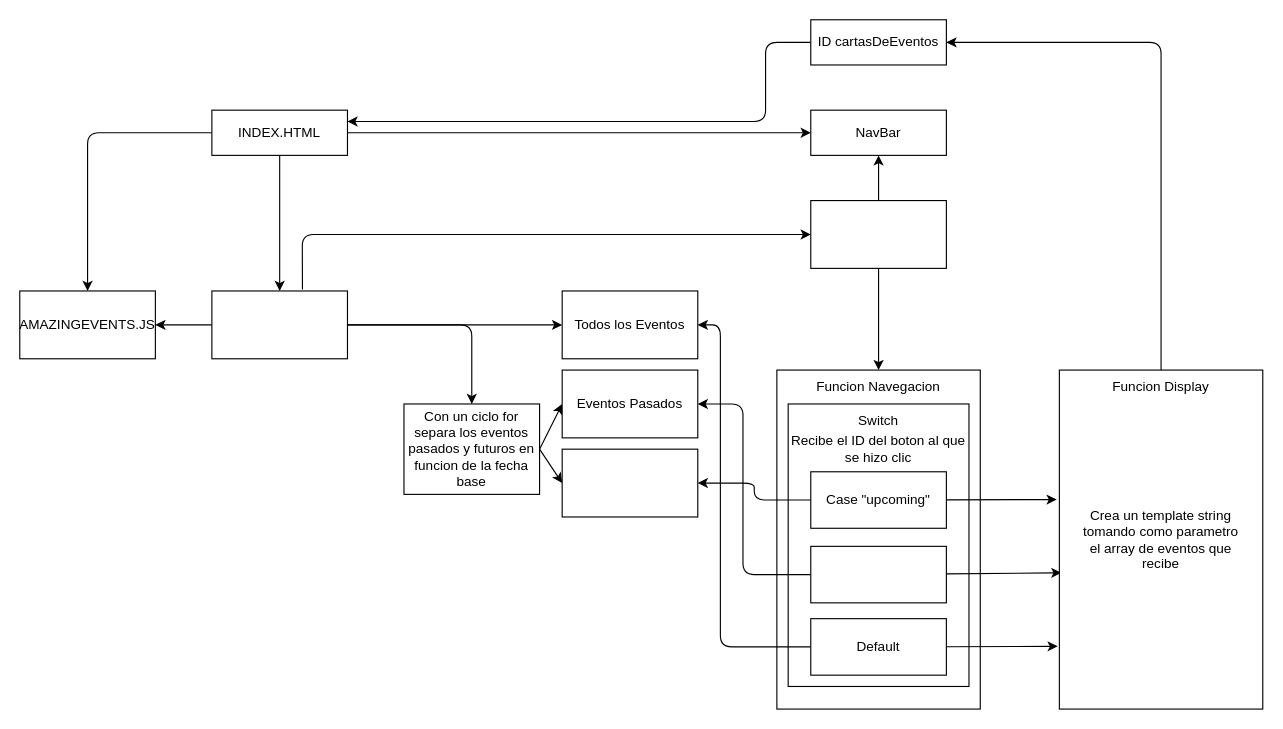
This 1283x729 diagram has some shape labels left out. Here are the shapes that lost their labels. From the top down, the centre of each, then its label:
(878,233): Con un evento clic, se captura el boton del NavBar seleccionado
(279,324): INDEX.JS
(629,482): Eventos Futuros
(878,574): Case "past"
